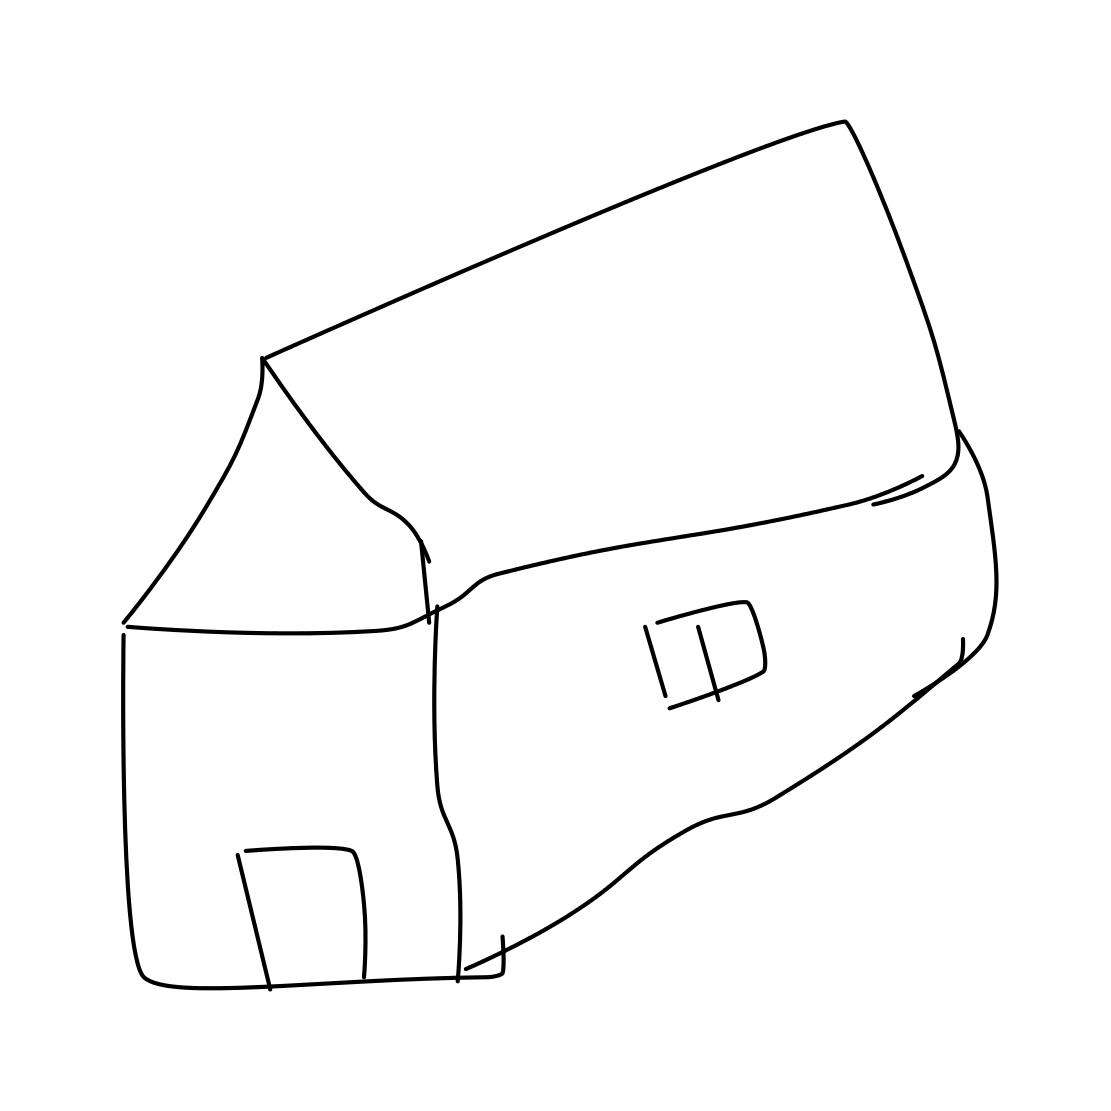House: (75, 109, 1034, 992)
